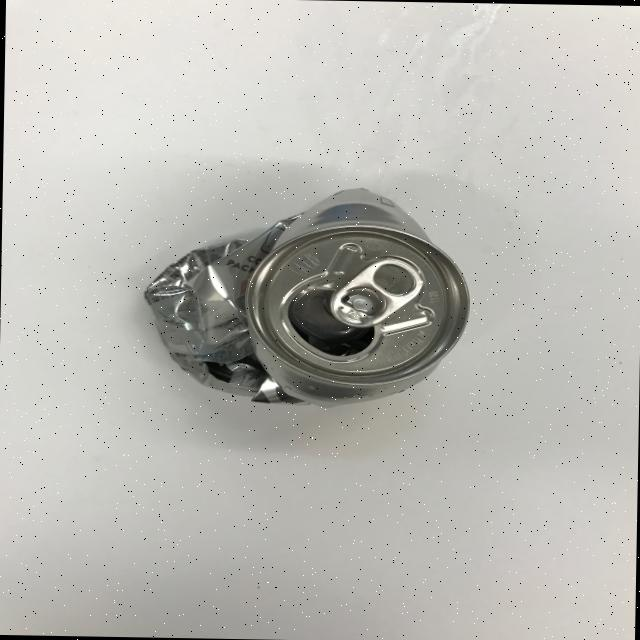metal: (142, 182, 472, 410)
